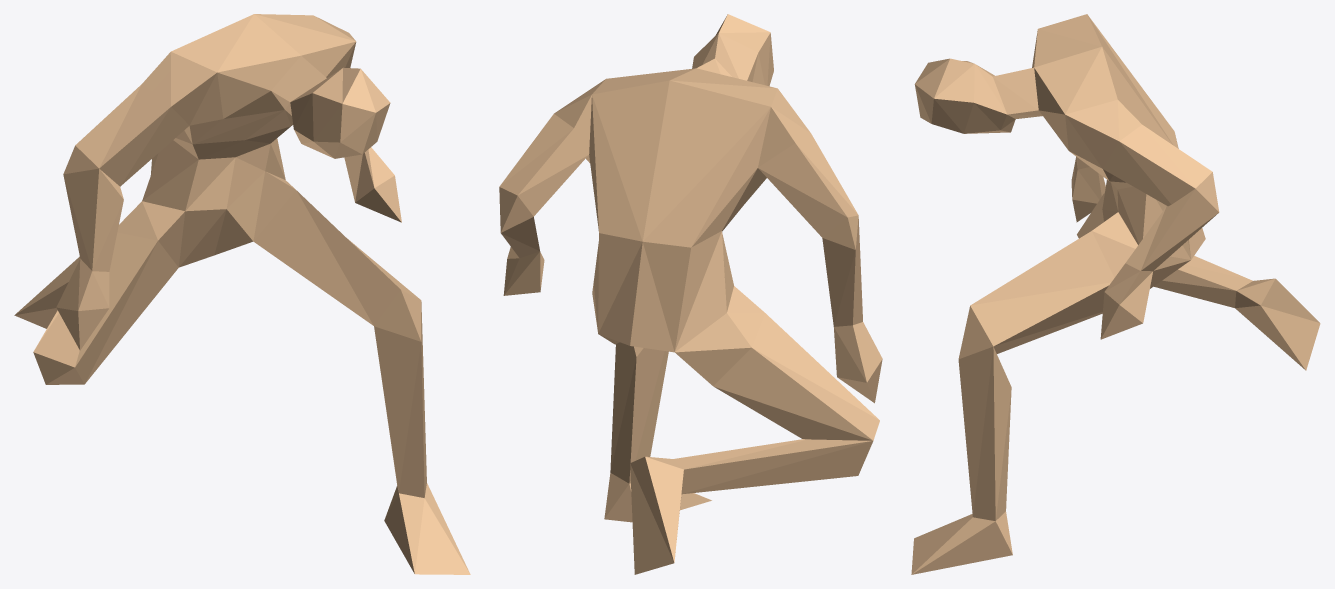
The picture shows the model from 3 angles, left to right: view 1: azimuth 30°, elevation 25°; view 2: azimuth 150°, elevation 25°; view 3: azimuth 270°, elevation 25°; orthographic projection. The views are drawn at different scales.
Size of the model in its own units: 1.08 by 1.47 by 1.15.
